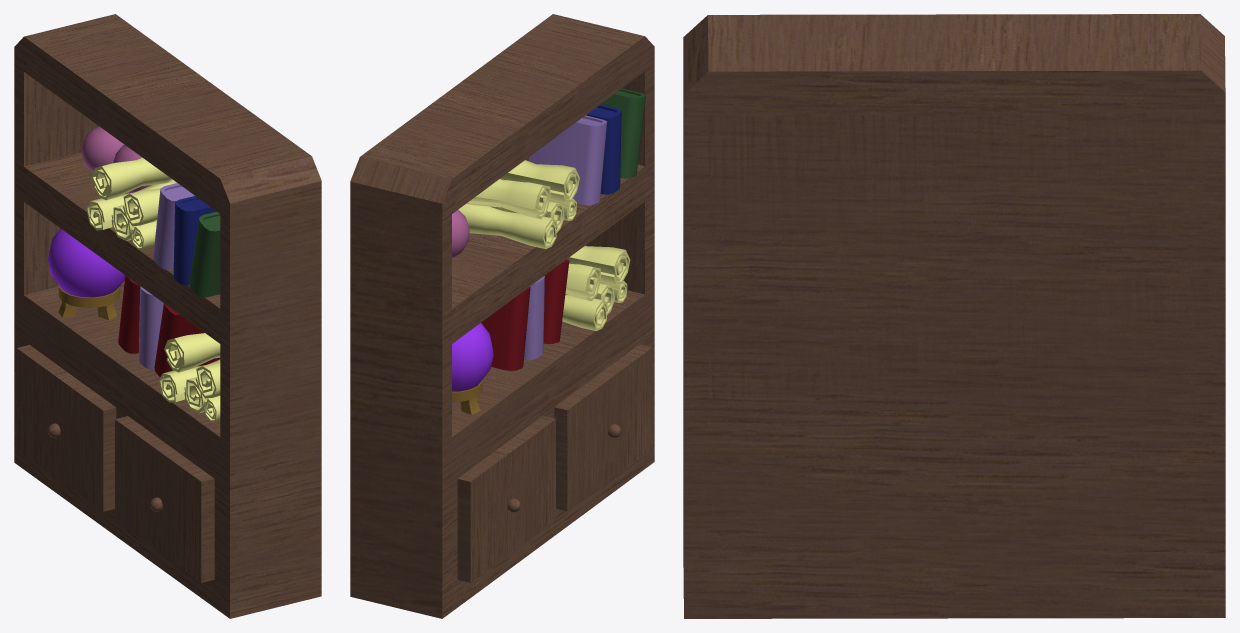
The model's file is shkafdlinniy.fbx.
3 views of the same model, side by side, from view 1: azimuth 30°, elevation 25°; view 2: azimuth 150°, elevation 25°; view 3: azimuth 270°, elevation 25° (orthographic). The views are drawn at different scales.
Parts seen in each view (by area): view 1: Plane.001; view 2: Plane.001; view 3: Plane.001.
Part boxes in pixels (x1,y1,x2,y2): Plane.001: [14, 14, 321, 618]; Plane.001: [350, 14, 654, 618]; Plane.001: [683, 14, 1225, 618].
Size of the model in its own units: 221 by 794 by 712.
